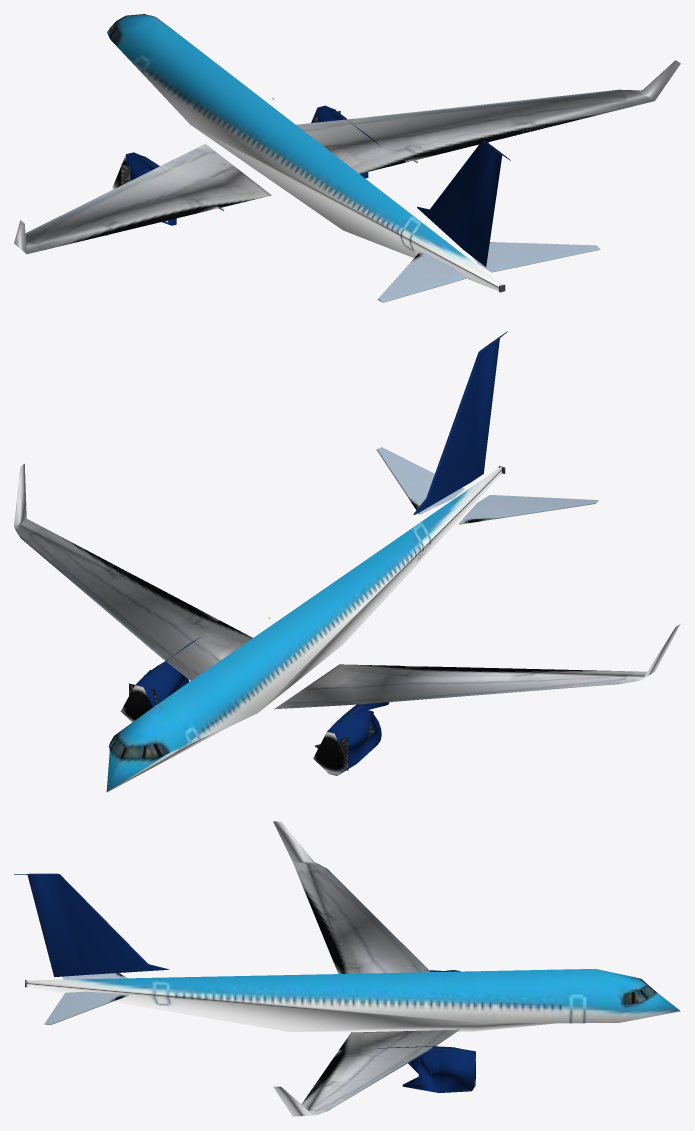
Rendered from avion-a320.lod1.glb.
3 renders of one model, top to bottom at view 1: azimuth 30°, elevation 25°; view 2: azimuth 150°, elevation 25°; view 3: azimuth 270°, elevation 25°, orthographic. The views are drawn at different scales.
Parts seen in each view (by area): view 1: airplane; view 2: airplane; view 3: airplane.
Boxes of the visible parts, bbox=[...] form: airplane: bbox=[14, 14, 680, 302]; airplane: bbox=[14, 331, 680, 792]; airplane: bbox=[14, 821, 680, 1116].
Size of the model in its own units: 35.47 by 11.32 by 37.68.
Materials: 1 (1 with a texture image).
